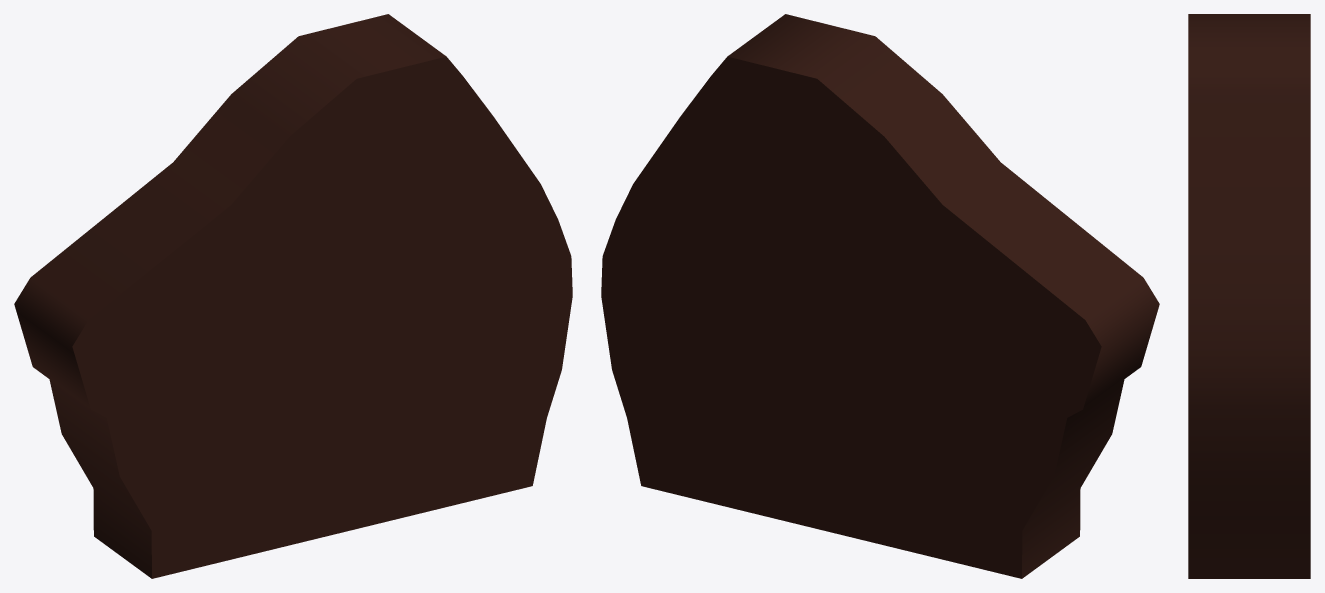
Rendered from 1 - Knocknagael Boar Stone.FBX.
3 views of the same model, side by side, from view 1: azimuth 30°, elevation 25°; view 2: azimuth 150°, elevation 25°; view 3: azimuth 270°, elevation 25° (orthographic). The views are drawn at different scales.
Visible parts, largest first — view 1: Box001; view 2: Box001; view 3: Box001.
Part boxes in pixels (x1,y1,x2,y2): Box001: (14, 14, 572, 578); Box001: (601, 14, 1159, 578); Box001: (1188, 14, 1310, 578).
Size of the model in its own units: 73.97 by 63.63 by 14.88.
